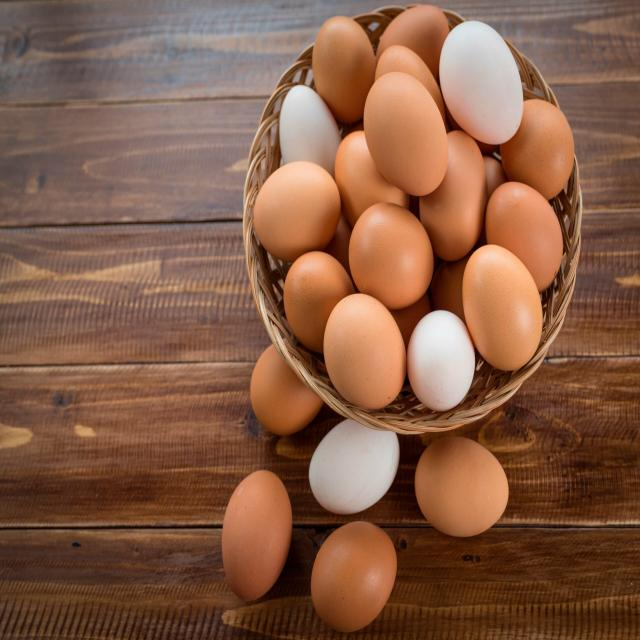huevos: (213, 458, 305, 621)
